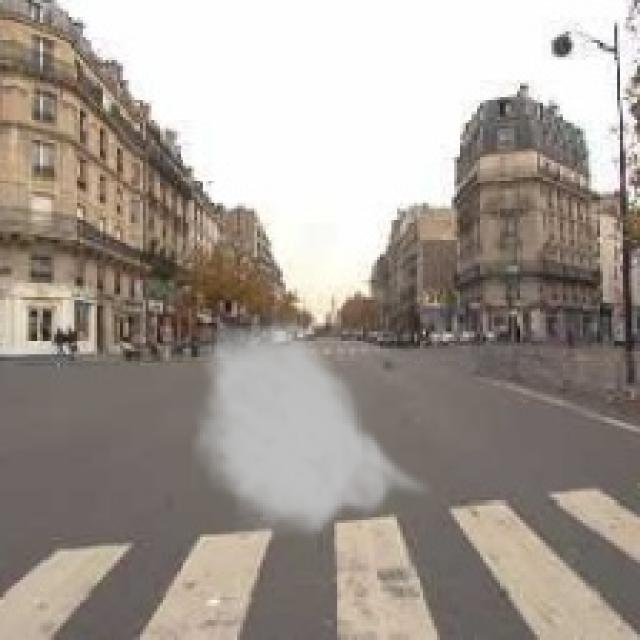smoke: (192, 306, 437, 543)
